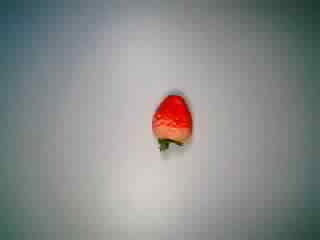strawberry: (136, 92, 204, 156)
